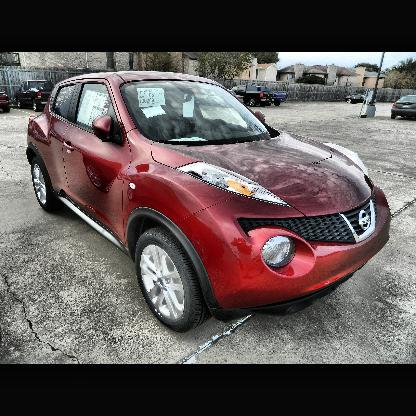Nissan Juke Hatchback 2012: (27, 70, 397, 336)
